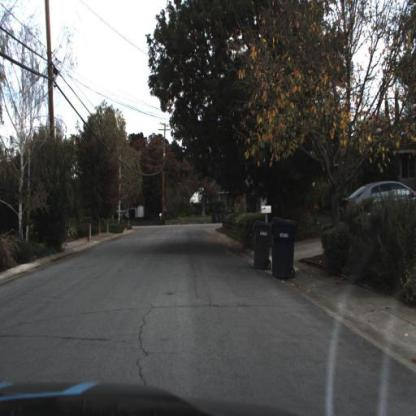car: (340, 181, 416, 217)
